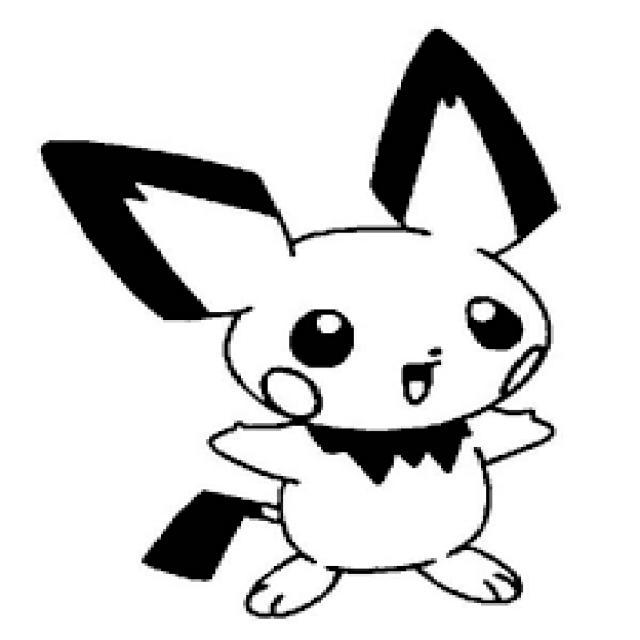pichu: (44, 30, 579, 594)
